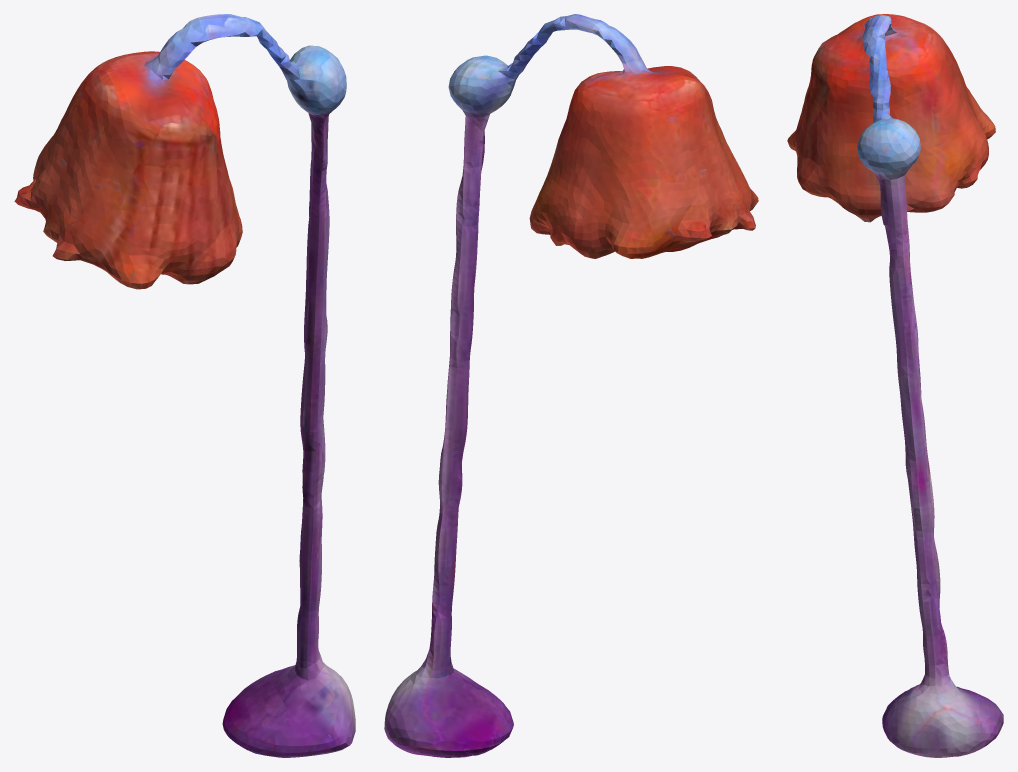
Rendered from 4_lamp.glb.
3 renders of one model, left to right at view 1: azimuth 30°, elevation 25°; view 2: azimuth 150°, elevation 25°; view 3: azimuth 270°, elevation 25°, orthographic. The views are drawn at different scales.
Visible parts, largest first — view 1: 4_lamp; view 2: 4_lamp; view 3: 4_lamp.
Part boxes in pixels (<box>): 4_lamp: <box>14,14,355,757</box>; 4_lamp: <box>384,14,758,757</box>; 4_lamp: <box>787,14,1003,757</box>.
Bounding box in the file's own units: 0.7835 × 1.73 × 0.5024.
Materials: 1 (1 with a texture image).
